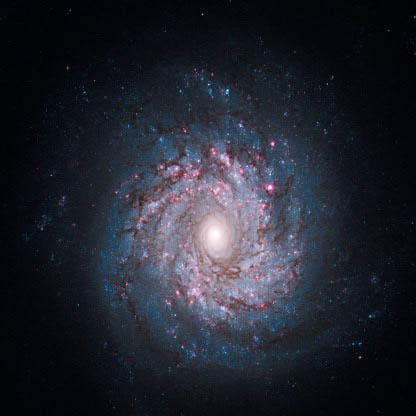NGC 3982: (61, 54, 352, 378)
